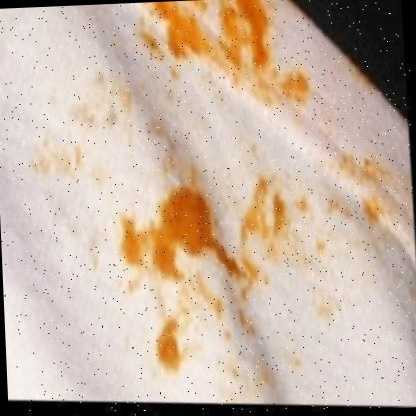kimchi: (294, 149, 394, 227), (150, 192, 242, 276), (143, 105, 199, 195), (243, 172, 297, 251), (219, 339, 290, 396), (214, 57, 300, 104), (297, 224, 334, 316), (179, 278, 231, 336), (157, 0, 206, 60), (112, 213, 158, 271), (143, 319, 183, 374), (236, 0, 271, 57), (35, 133, 85, 170), (89, 78, 134, 118), (212, 0, 233, 58), (233, 307, 256, 343)
